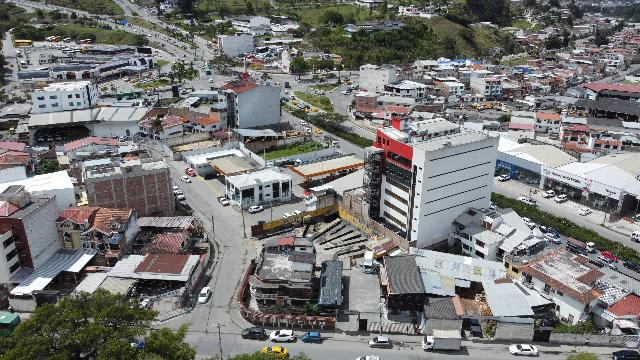Vehiculo: (510, 344, 538, 356), (261, 346, 287, 358), (241, 328, 265, 341), (596, 255, 618, 269), (566, 242, 588, 256), (270, 330, 294, 342), (368, 336, 392, 348), (611, 349, 639, 359), (540, 316, 560, 326), (198, 287, 210, 303), (544, 232, 560, 244), (602, 251, 618, 263), (302, 332, 321, 342), (518, 197, 536, 206), (623, 262, 639, 272), (522, 217, 534, 229), (248, 205, 264, 213), (554, 195, 568, 204), (218, 196, 228, 206), (630, 231, 640, 241), (497, 174, 509, 182), (543, 190, 555, 198), (184, 168, 196, 176), (579, 208, 591, 216), (356, 356, 380, 360), (489, 202, 497, 210), (181, 176, 191, 182), (314, 128, 322, 133), (300, 120, 306, 126)
